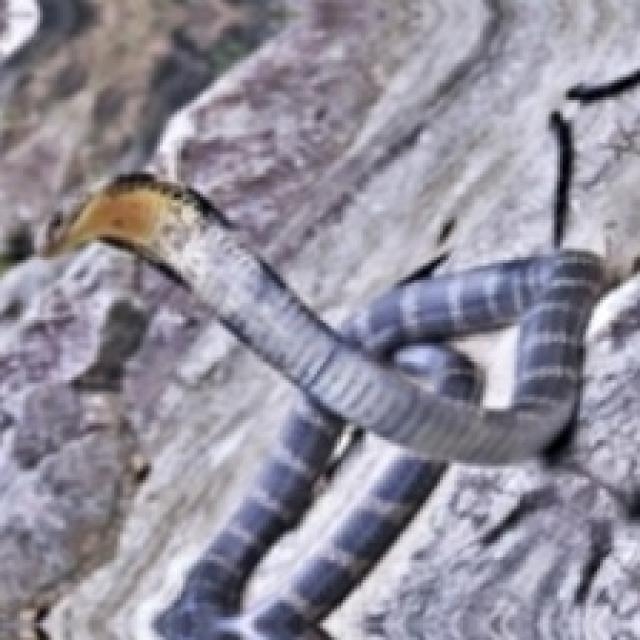king cobra: (49, 174, 600, 637), (237, 420, 411, 611), (383, 320, 520, 409)
